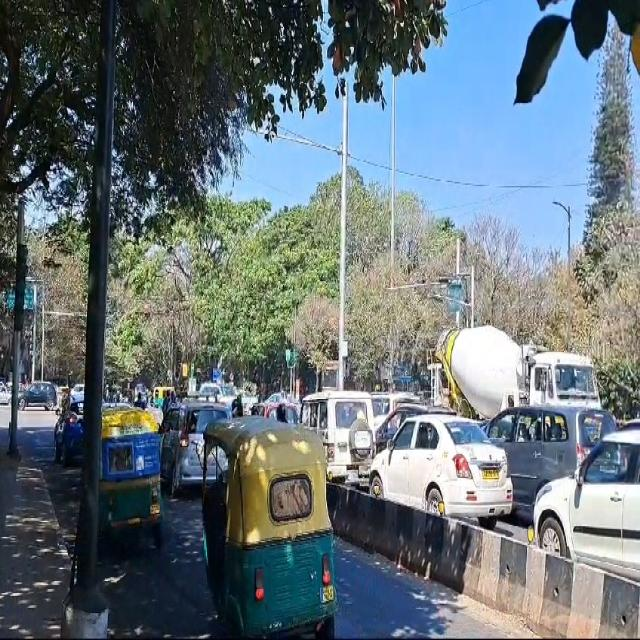cars: (373, 417, 515, 530), (534, 431, 640, 572), (493, 410, 622, 518), (301, 390, 378, 486), (157, 402, 236, 493)
